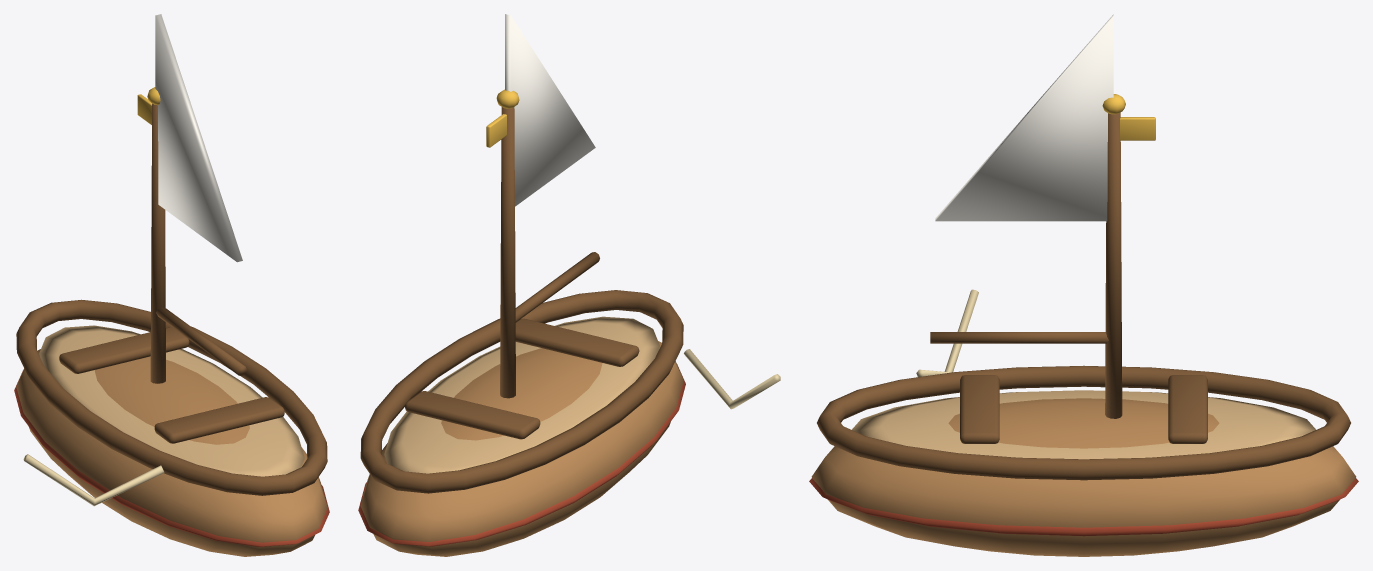
File: tour-boat.glb
3 views of the same model, side by side, from view 1: azimuth 30°, elevation 25°; view 2: azimuth 150°, elevation 25°; view 3: azimuth 270°, elevation 25° (orthographic). The views are drawn at different scales.
Parts seen in each view (by area): view 1: hull, sail, mast; view 2: hull, sail, mast; view 3: hull, sail, mast.
Part boxes in pixels (x1=…): hull: x1=14, y1=299, x2=329, y2=556; sail: x1=155, y1=14, x2=242, y2=262; mast: x1=137, y1=87, x2=246, y2=383; hull: x1=358, y1=290, x2=780, y2=556; sail: x1=505, y1=14, x2=595, y2=206; mast: x1=486, y1=89, x2=599, y2=398; hull: x1=809, y1=289, x2=1358, y2=556; sail: x1=935, y1=14, x2=1113, y2=221; mast: x1=930, y1=94, x2=1155, y2=418.
Bounding box in the file's own units: 1.5 × 2.34 × 2.22.
